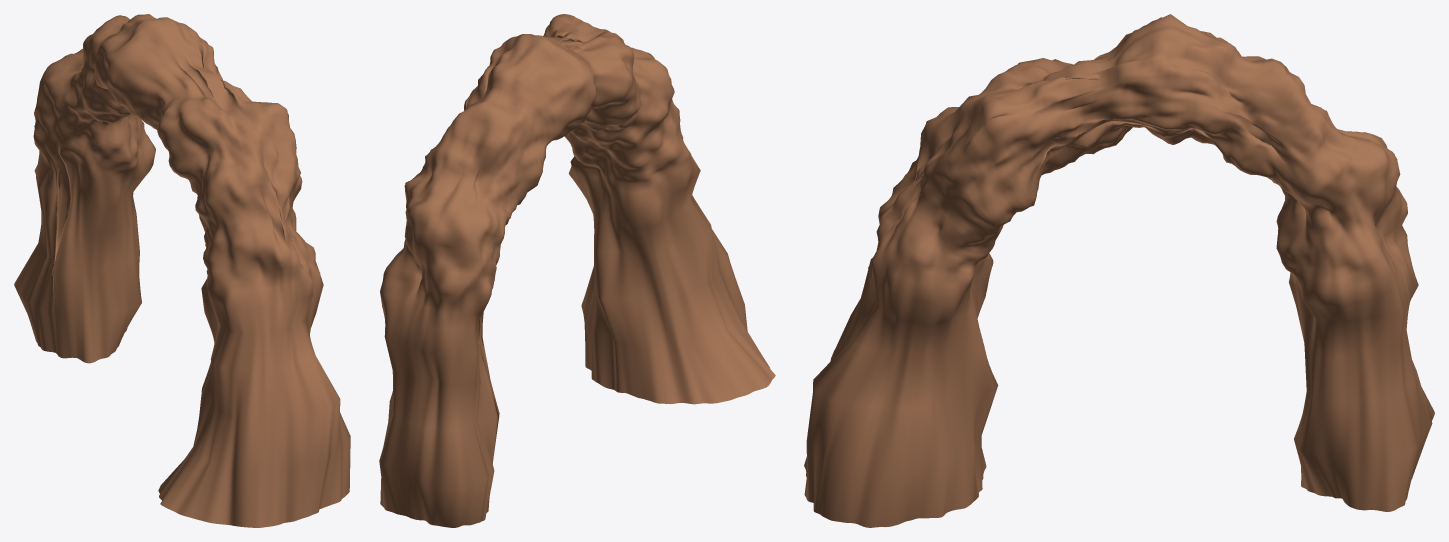
Rendered from arch.fbx.
3 views of the same model, side by side, from view 1: azimuth 30°, elevation 25°; view 2: azimuth 150°, elevation 25°; view 3: azimuth 270°, elevation 25° (orthographic). The views are drawn at different scales.
Visible parts, largest first — view 1: Torus; view 2: Torus; view 3: Torus.
Part boxes in pixels (x1,y1,x2,y2): Torus: (14,14,350,527); Torus: (379,14,775,527); Torus: (804,14,1434,527).
Bounding box in the file's own units: 112 × 241 × 289.
